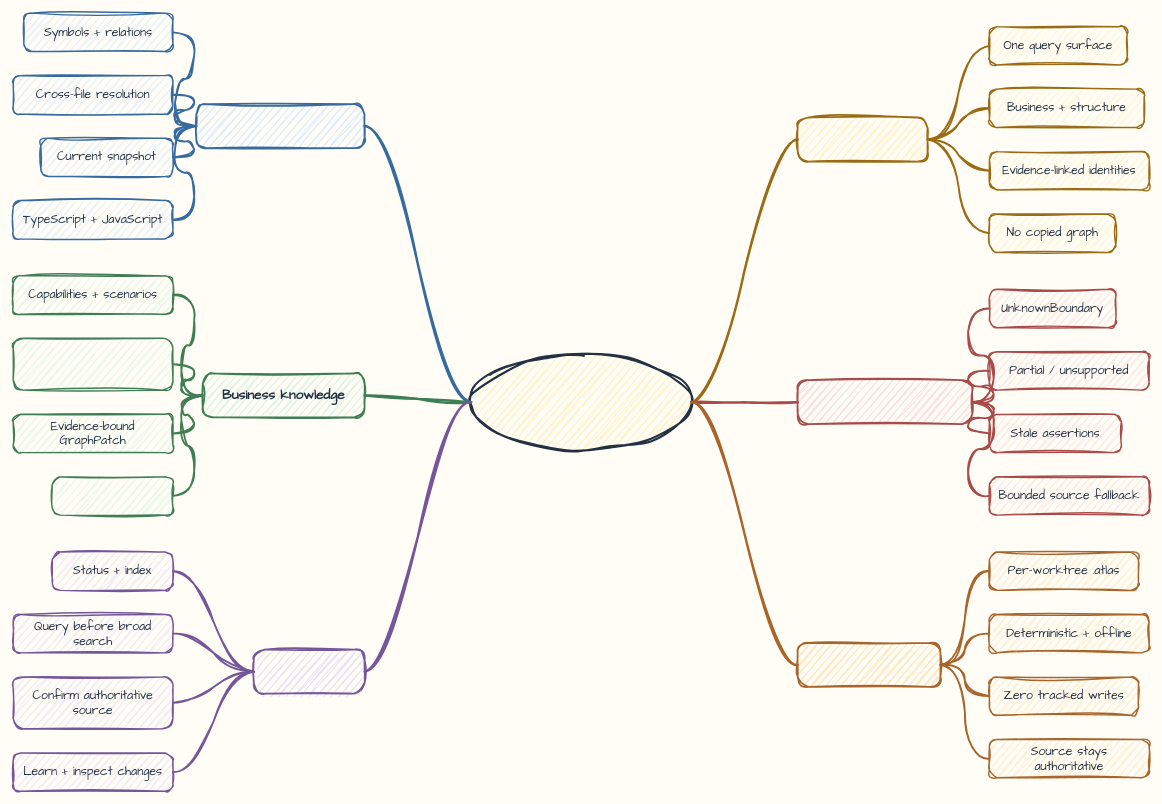
The diagram is 1162 pixels wide and 804 high, and some of its shapes have lost their labels. The shapes that lost their labels are listed below. From the top down, each one's box as (x1, y1, x2, y2) in pixels, then its label:
(195, 103, 365, 149): Structural evidence
(796, 116, 928, 162): One world map
(12, 337, 173, 390): Operations / interfaces / data
(470, 353, 692, 450): Semantic Atlas One evidence-bound world map
(796, 379, 973, 425): Explicit uncertainty
(51, 476, 173, 515): Valid or stale
(253, 648, 365, 694): Agent loop
(796, 642, 941, 687): Local by design
